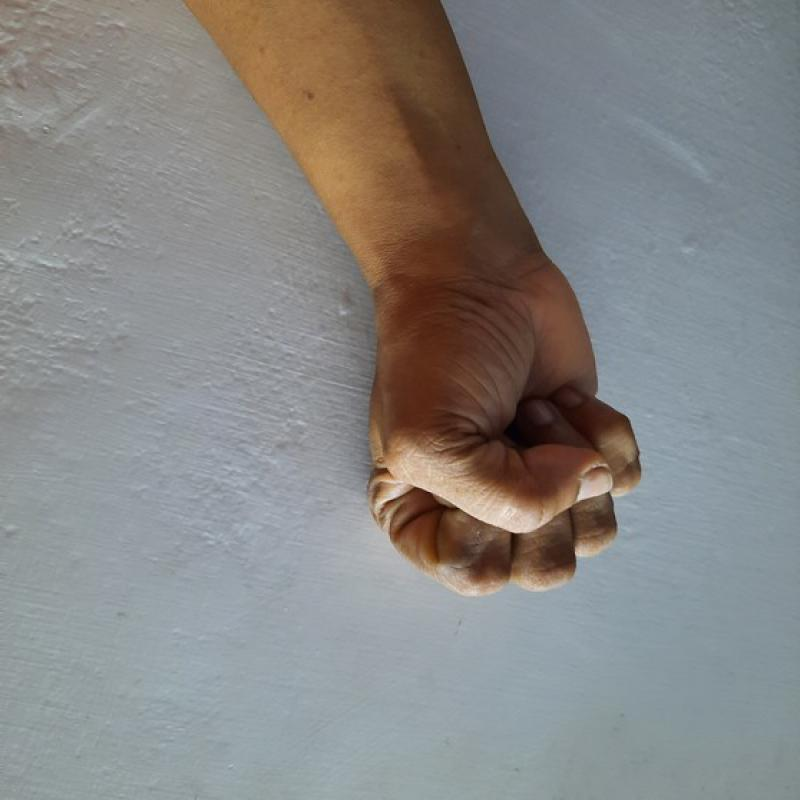Mushti: (318, 270, 668, 602)
